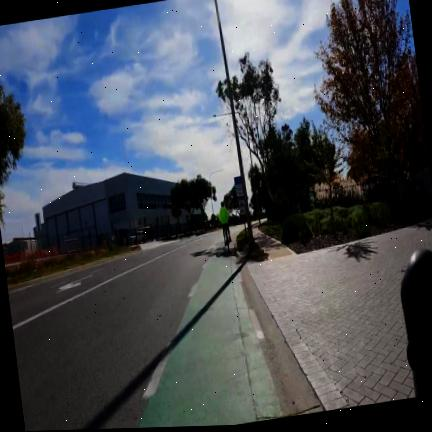Green_Bike_Lane: (134, 258, 284, 428)
